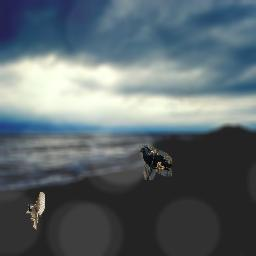Crow: (138, 145, 172, 180)
Sparrow: (26, 191, 45, 230)
